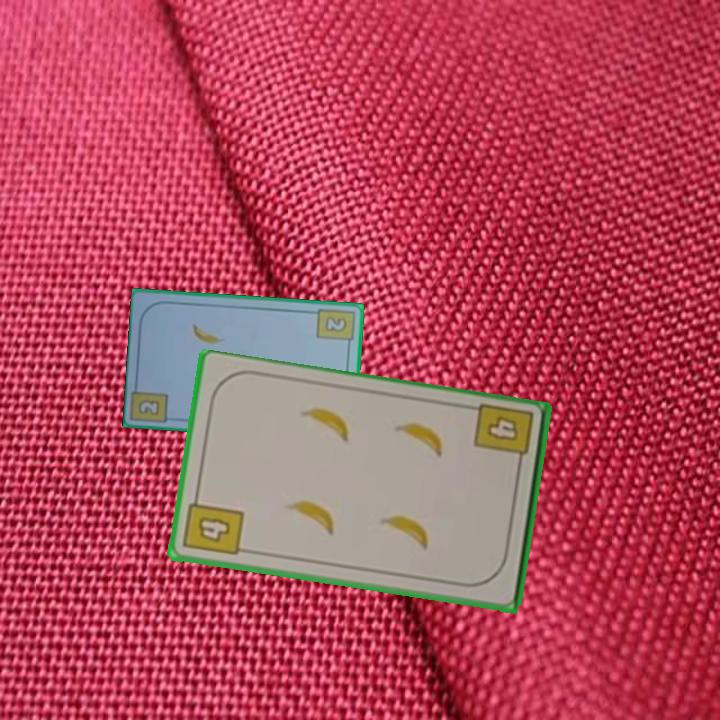2b: (313, 305, 357, 351), (134, 396, 163, 418)
4b: (471, 401, 537, 472), (180, 490, 247, 559)
